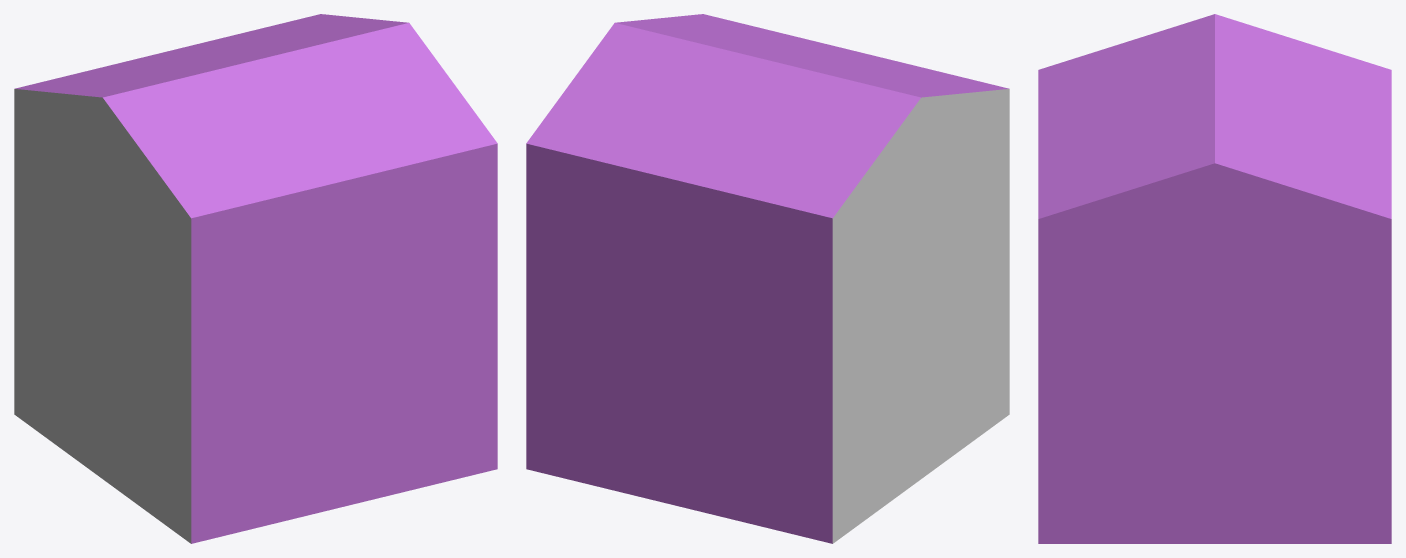
The model's file is GorgonShop.fbx.
3 views of the same model, side by side, from view 1: azimuth 30°, elevation 25°; view 2: azimuth 150°, elevation 25°; view 3: azimuth 270°, elevation 25° (orthographic).
Parts seen in each view (by area): view 1: Cube; view 2: Cube; view 3: Cube.
Boxes of the visible parts, left/top/right/bottom form: Cube: left=14, top=14, right=497, bottom=543; Cube: left=526, top=14, right=1009, bottom=543; Cube: left=1038, top=14, right=1391, bottom=543.
Size of the model in its own units: 500 by 595 by 500.
